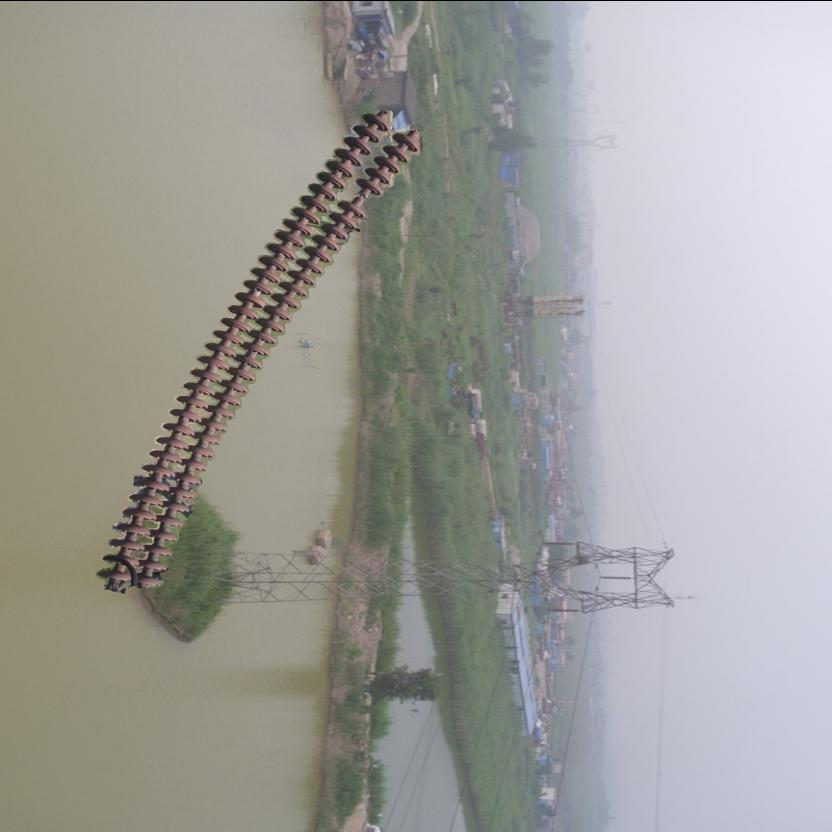defect: (339, 173, 387, 219)
